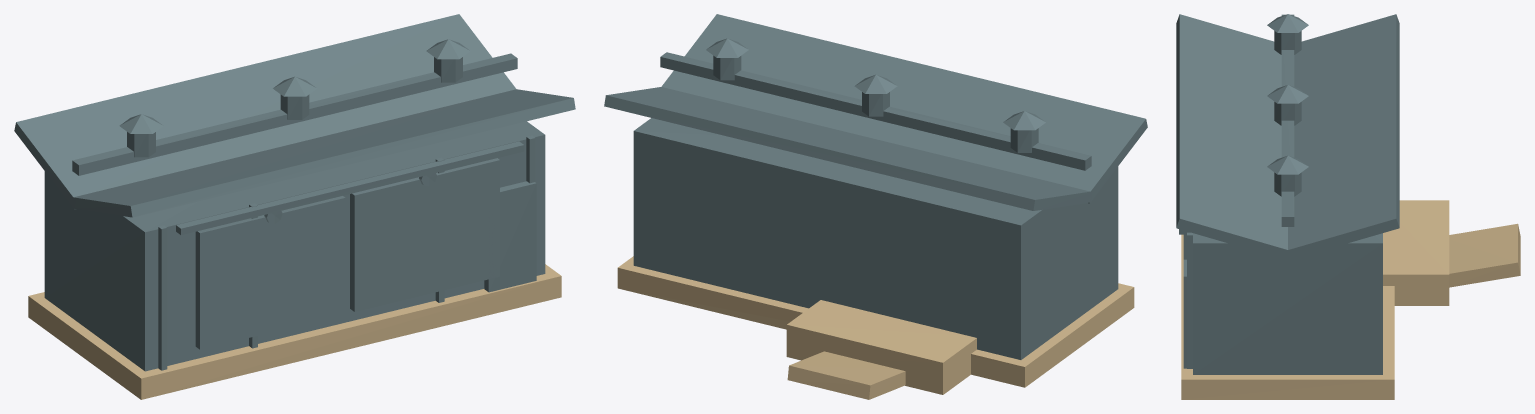
Rendered from warehouse.source.glb.
3 views of the same model, side by side, from view 1: azimuth 30°, elevation 25°; view 2: azimuth 150°, elevation 25°; view 3: azimuth 270°, elevation 25° (orthographic). The views are drawn at different scales.
Visible parts, largest first — view 1: warehouse-shallow-galvanized-gable-roof-mesh (×2), warehouse-long-timber-metal-body-mesh, warehouse-left-wide-loading-door-mesh, warehouse-right-wide-loading-door-mesh, warehouse-low-stone-foundation-mesh, warehouse-roof-ridge-mesh, warehouse-double-door-iron-track-mesh, warehouse-small-service-door-mesh, warehouse-roof-vent-mesh (×3), warehouse-roof-vent-cap-mesh (×3), warehouse-front-iron-brace-mesh; view 2: warehouse-long-timber-metal-body-mesh, warehouse-shallow-galvanized-gable-roof-mesh (×2), warehouse-raised-side-loading-dock-mesh, warehouse-low-stone-foundation-mesh, warehouse-roof-ridge-mesh, warehouse-short-dock-ramp-mesh, warehouse-roof-vent-mesh (×3), warehouse-roof-vent-cap-mesh (×3); view 3: warehouse-shallow-galvanized-gable-roof-mesh (×2), warehouse-long-timber-metal-body-mesh, warehouse-low-stone-foundation-mesh, warehouse-raised-side-loading-dock-mesh, warehouse-short-dock-ramp-mesh, warehouse-roof-vent-cap-mesh (×3), warehouse-roof-vent-mesh (×3), warehouse-roof-ridge-mesh, warehouse-front-iron-brace-mesh, warehouse-small-service-door-mesh.
Boxes of the visible parts, <box> form: warehouse-shallow-galvanized-gable-roof-mesh (×2): <box>14,14,575,217</box>; warehouse-long-timber-metal-body-mesh: <box>44,121,545,371</box>; warehouse-left-wide-loading-door-mesh: <box>195,196,345,349</box>; warehouse-right-wide-loading-door-mesh: <box>350,158,499,311</box>; warehouse-low-stone-foundation-mesh: <box>28,264,561,399</box>; warehouse-roof-ridge-mesh: <box>72,53,517,175</box>; warehouse-double-door-iron-track-mesh: <box>176,141,524,235</box>; warehouse-small-service-door-mesh: <box>484,181,536,292</box>; warehouse-roof-vent-mesh (×3): <box>127,57,462,157</box>; warehouse-roof-vent-cap-mesh (×3): <box>119,39,470,133</box>; warehouse-front-iron-brace-mesh: <box>158,225,167,370</box>; warehouse-long-timber-metal-body-mesh: <box>633,118,1118,359</box>; warehouse-shallow-galvanized-gable-roof-mesh (×2): <box>604,14,1147,210</box>; warehouse-raised-side-loading-dock-mesh: <box>786,300,976,394</box>; warehouse-low-stone-foundation-mesh: <box>617,256,1134,387</box>; warehouse-roof-ridge-mesh: <box>660,52,1091,170</box>; warehouse-short-dock-ramp-mesh: <box>787,351,905,399</box>; warehouse-roof-vent-mesh (×3): <box>713,55,1038,152</box>; warehouse-roof-vent-cap-mesh (×3): <box>706,38,1045,130</box>; warehouse-shallow-galvanized-gable-roof-mesh (×2): <box>1176,14,1399,260</box>; warehouse-long-timber-metal-body-mesh: <box>1193,233,1382,374</box>; warehouse-low-stone-foundation-mesh: <box>1181,234,1394,399</box>; warehouse-raised-side-loading-dock-mesh: <box>1383,200,1449,305</box>; warehouse-short-dock-ramp-mesh: <box>1449,223,1520,287</box>; warehouse-roof-vent-cap-mesh (×3): <box>1267,14,1308,174</box>; warehouse-roof-vent-mesh (×3): <box>1274,31,1301,196</box>; warehouse-roof-ridge-mesh: <box>1281,14,1294,226</box>; warehouse-front-iron-brace-mesh: <box>1187,232,1192,368</box>; warehouse-small-service-door-mesh: <box>1183,259,1186,368</box>.
Size of the model in its own units: 3.9 by 1.94 by 2.78.
